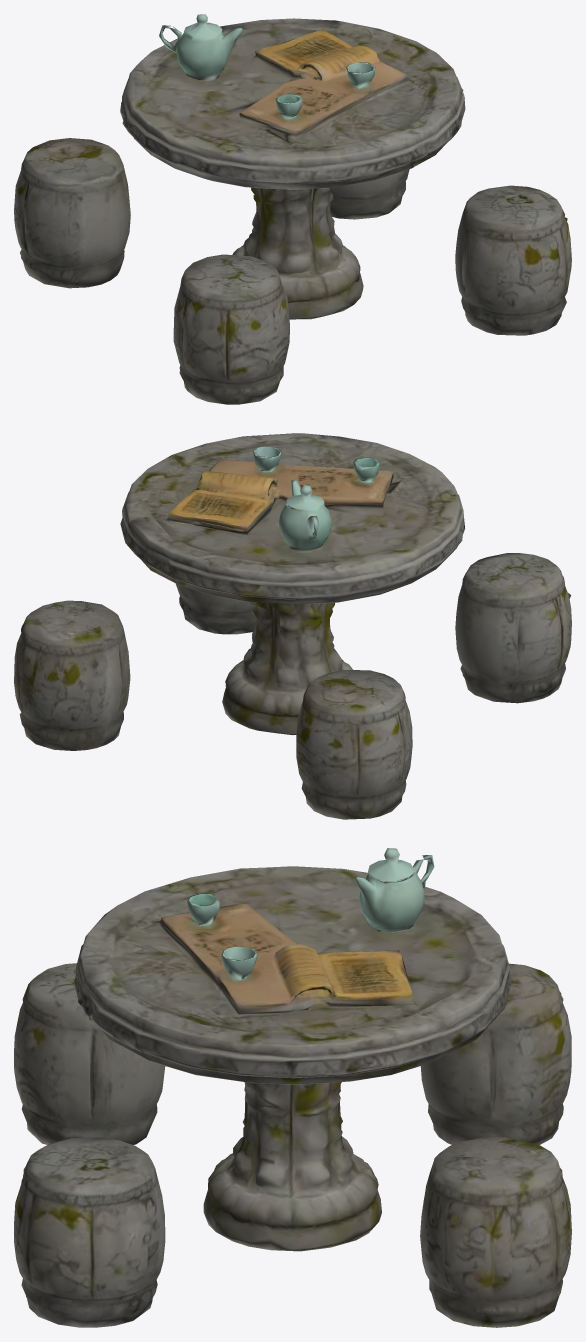
The model's file is shizhuo.glb.
The picture shows the model from 3 angles, top to bottom: view 1: azimuth 30°, elevation 25°; view 2: azimuth 150°, elevation 25°; view 3: azimuth 270°, elevation 25°; orthographic projection. The views are drawn at different scales.
Visible parts, largest first — view 1: tripo_node_a13df065-9f3f-464b-bf23-2c7c3e08d4f5; view 2: tripo_node_a13df065-9f3f-464b-bf23-2c7c3e08d4f5; view 3: tripo_node_a13df065-9f3f-464b-bf23-2c7c3e08d4f5.
Part boxes in pixels (bbox=[...]): tripo_node_a13df065-9f3f-464b-bf23-2c7c3e08d4f5: bbox=[14, 14, 571, 404]; tripo_node_a13df065-9f3f-464b-bf23-2c7c3e08d4f5: bbox=[14, 433, 571, 819]; tripo_node_a13df065-9f3f-464b-bf23-2c7c3e08d4f5: bbox=[14, 848, 571, 1327].
Size of the model in its own units: 1.53 by 0.9999 by 1.51.
1 material, 1 textured.
